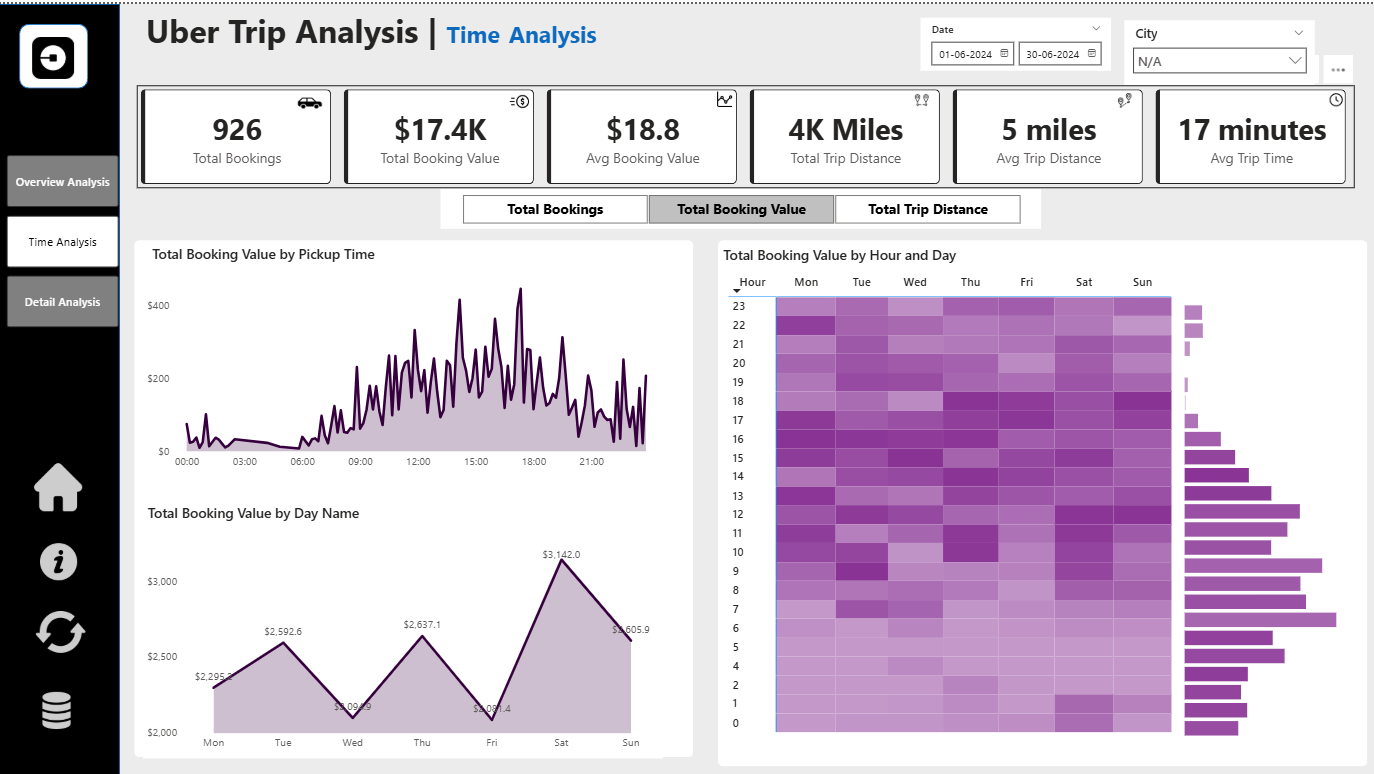

The page's visual inventory and layout, read from the dashboard file:
{"tool":"powerbi","page":{"name":"Time Analysis","canvas":[1600,900],"ordinal":1},"visuals":[{"type":"shape","box":[25,23.3,80,75],"z":0,"group":"g1"},{"type":"shape","box":[158.3,275,650,601],"z":0},{"type":"image","box":[35,31.6,58.3,61.7],"z":1000,"group":"g1"},{"type":"shape","box":[24.7,42,80,75],"z":1000},{"type":"shape","box":[0,0,141.7,900],"z":2000},{"type":"textbox","box":[167.6,0,619.1,94.1],"z":3000},{"type":"cardVisual","fields":{"Data":["Trip Details.Total Bookings","Trip Details.Total Booking Amount","Trip Details.Avg Booking Amount","Trip Details.Total Trip Distance","Trip Details.Avg Trip Distance","Trip Details.Avg Trip Time"]},"box":[161.7,94.2,1415,120],"z":4000},{"type":"image","box":[588,97.3,34.7,32],"z":5000},{"type":"image","box":[1544,97.3,25.3,28.7],"z":6000},{"type":"image","box":[1294.4,98.1,30.6,26.2],"z":7000},{"type":"image","box":[1058.8,98.1,31.2,25.6],"z":8000},{"type":"image","box":[827.6,96.5,35.3,29.4],"z":9000},{"type":"image","box":[338.4,96.3,47.9,38.9],"z":10000},{"type":"slicer","fields":{"Values":["Calender Table.Date"]},"box":[1073.3,16.7,221.7,61.7],"z":11000},{"type":"slicer","fields":{"Values":["Location Table.City"]},"box":[1310,18.3,221.7,75],"z":12000},{"type":"areaChart","fields":{"Y":["Trip Details.Total Booking Value"],"Category":["Trip Details.Pickup Hour(HH:MM:SS) (bins)"]},"box":[168.3,293.3,605,256.7],"z":13000},{"type":"card","fields":{"Values":["Trip Details.Title for by Pickup Time"]},"box":[116.7,248.3,385,88.3],"z":14000},{"type":"slicer","fields":{"Values":["Dynamic  Measure.Dynamic  Measure"]},"box":[515,215,698.3,46.7],"z":15000},{"type":"areaChart","fields":{"Y":["Trip Details.Total Booking Value"],"Category":["Calender Table.Day Name"]},"box":[168.3,621.7,605,255],"z":16000},{"type":"card","fields":{"Values":["Trip Details.Title for by Day Name"]},"box":[105,550,385,88.3],"z":17000},{"type":"shape","box":[836.7,275,755,611.7],"z":18000},{"type":"pivotTable","fields":{"Values":["Trip Details.Total Booking Value"],"Rows":["Trip Details.Pickup Hour"],"Columns":["Calender Table.Day Name"]},"box":[845,306.7,530,563.3],"z":19000},{"type":"barChart","fields":{"Y":["Trip Details.Total Booking Value"],"Category":["Trip Details.Pickup Hour"]},"box":[1375,336.7,216.7,540],"z":20000},{"type":"card","fields":{"Values":["Trip Details.Title for by Hour and Day"]},"box":[786.7,250,385,88.3],"z":21000},{"type":"group","id":"g1","title":"Group 1","box":[25,23.3,80,75],"z":22000},{"type":"pageNavigator","box":[10.4,175.7,130.4,200],"z":23000},{"type":"image","box":[35.9,528.4,67.5,66.1],"z":23001},{"type":"image","box":[38.8,621.7,61.7,53.1],"z":23002},{"type":"image","box":[38.8,693.5,67.5,73.2],"z":23003},{"type":"image","box":[38.8,795.5,57.4,53.1],"z":23004}]}

Visuals, with their boxes on the page's 1600x900 design canvas (x1, y1, x2, y2). These are canvas units, not pixel positions in the 1374x774 screenshot, which may show the page scaled, cropped or inside an application window:
shape: [left=25, top=23, right=105, bottom=98]
shape: [left=158, top=275, right=808, bottom=876]
image: [left=35, top=32, right=93, bottom=93]
shape: [left=25, top=42, right=105, bottom=117]
shape: [left=0, top=0, right=142, bottom=900]
textbox: [left=168, top=0, right=787, bottom=94]
cardVisual - Trip Details.Total Bookings x Trip Details.Total Booking Amount: [left=162, top=94, right=1577, bottom=214]
image: [left=588, top=97, right=623, bottom=129]
image: [left=1544, top=97, right=1569, bottom=126]
image: [left=1294, top=98, right=1325, bottom=124]
image: [left=1059, top=98, right=1090, bottom=124]
image: [left=828, top=96, right=863, bottom=126]
image: [left=338, top=96, right=386, bottom=135]
slicer - Calender Table.Date: [left=1073, top=17, right=1295, bottom=78]
slicer - Location Table.City: [left=1310, top=18, right=1532, bottom=93]
areaChart - Trip Details.Total Booking Value x Trip Details.Pickup Hour(HH:MM:SS) (bins): [left=168, top=293, right=773, bottom=550]
card - Trip Details.Title for by Pickup Time: [left=117, top=248, right=502, bottom=337]
slicer - Dynamic  Measure.Dynamic  Measure: [left=515, top=215, right=1213, bottom=262]
areaChart - Trip Details.Total Booking Value x Calender Table.Day Name: [left=168, top=622, right=773, bottom=877]
card - Trip Details.Title for by Day Name: [left=105, top=550, right=490, bottom=638]
shape: [left=837, top=275, right=1592, bottom=887]
pivotTable - Trip Details.Total Booking Value x Trip Details.Pickup Hour: [left=845, top=307, right=1375, bottom=870]
barChart - Trip Details.Total Booking Value x Trip Details.Pickup Hour: [left=1375, top=337, right=1592, bottom=877]
card - Trip Details.Title for by Hour and Day: [left=787, top=250, right=1172, bottom=338]
"Group 1" group: [left=25, top=23, right=105, bottom=98]
pageNavigator: [left=10, top=176, right=141, bottom=376]
image: [left=36, top=528, right=103, bottom=594]
image: [left=39, top=622, right=100, bottom=675]
image: [left=39, top=694, right=106, bottom=767]
image: [left=39, top=796, right=96, bottom=849]
